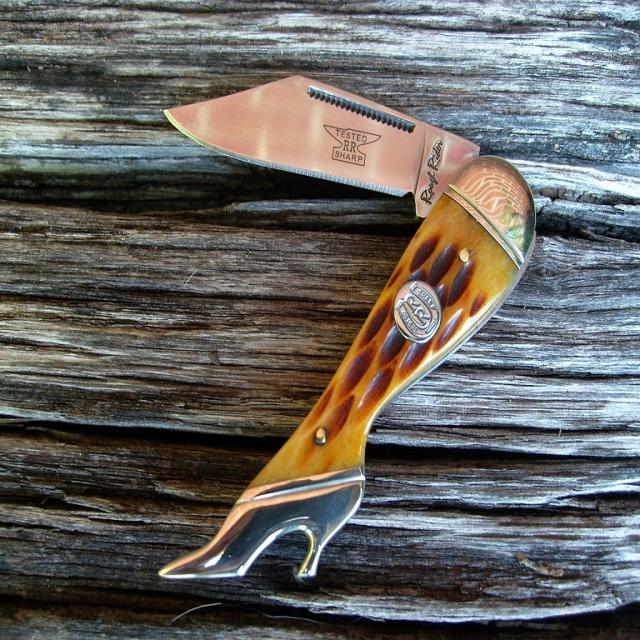Knife: (160, 76, 535, 578)
